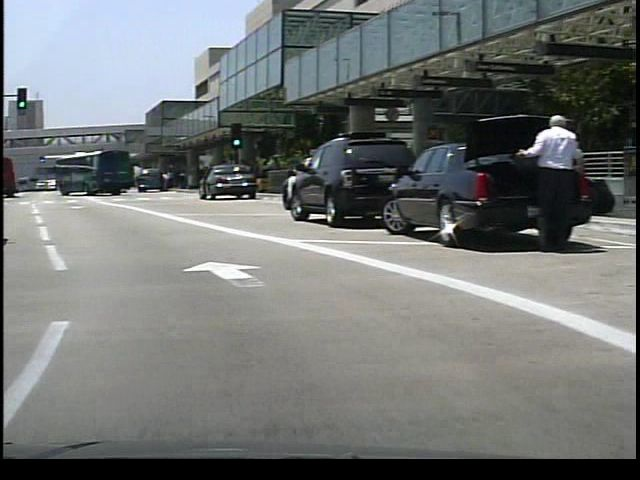person: (509, 98, 582, 259), (502, 133, 526, 217)
